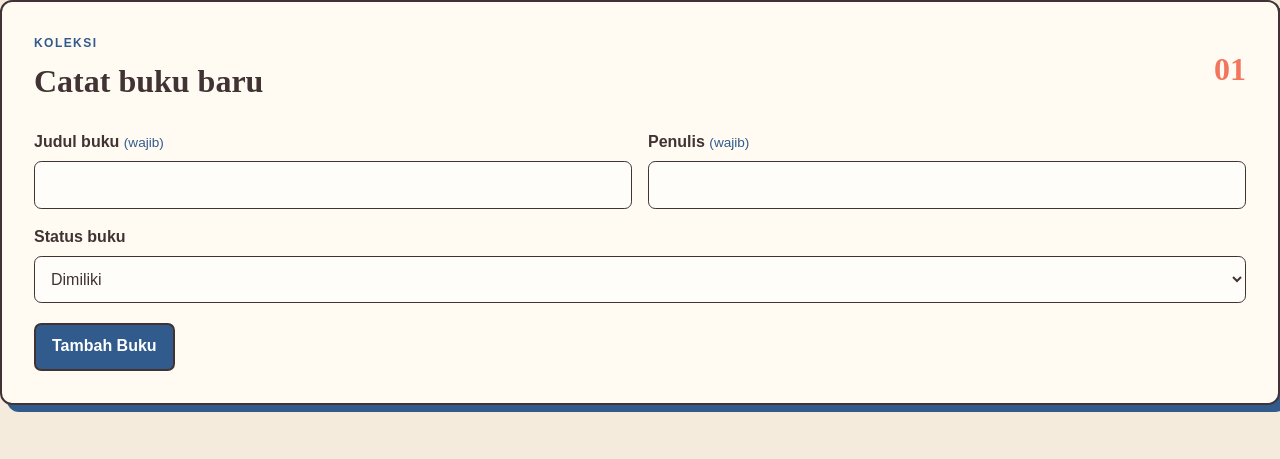
Test case: BookForm › menampilkan error jika judul kosong
This screenshot has width=1280, height=459.
Type "Leila" into the field labelled "Penulis (wajib)". click: (947, 185)
box: [648,161,1246,209]
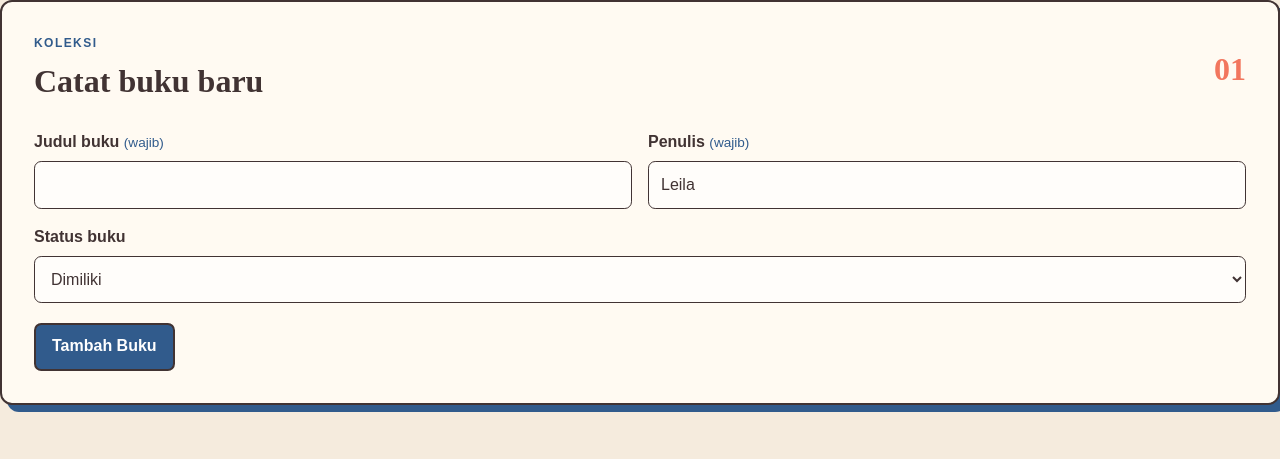
Click the button "Tambah Buku". click: (104, 346)
box: [34,322,175,370]
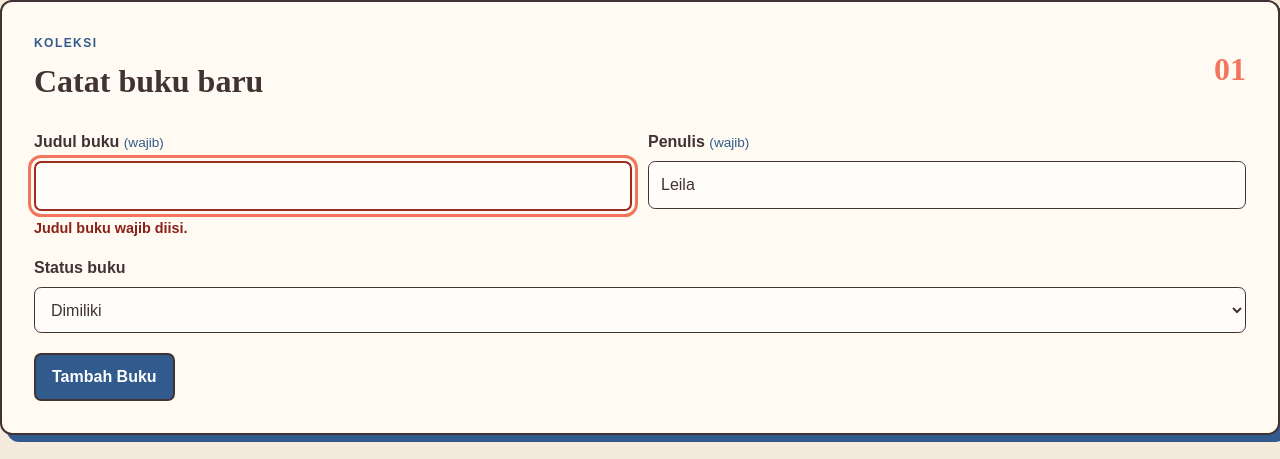
expect the text "Judul buku wajib diisi." is shown: met, box [34,220,188,236]
